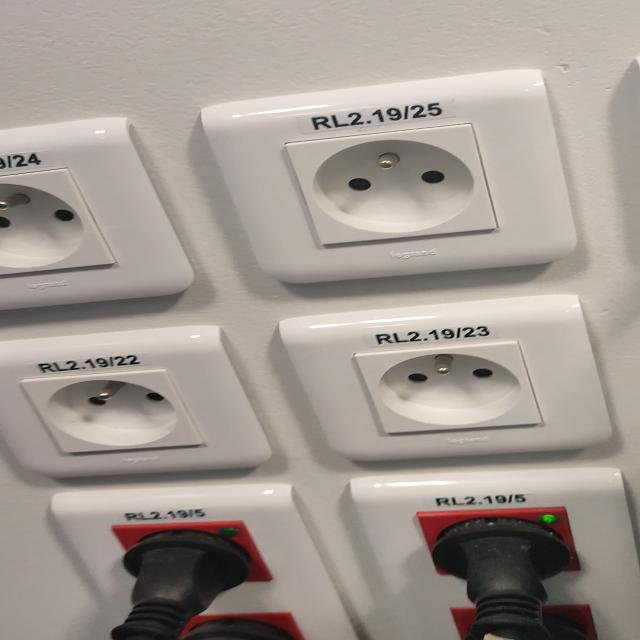house plug: (284, 126, 496, 246), (356, 342, 542, 435), (21, 371, 201, 453), (0, 168, 117, 276)
